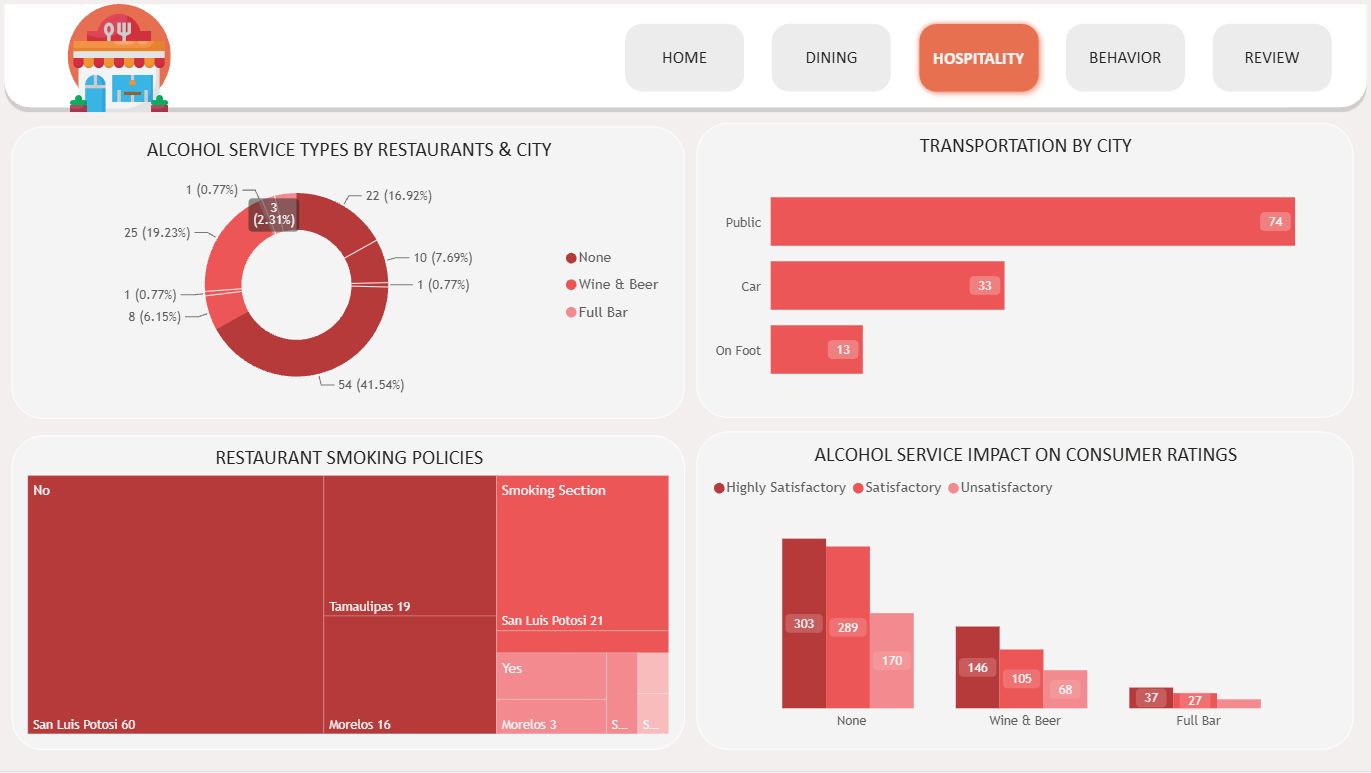

This screenshot's page, from the dashboard's own definition file:
{"tool":"powerbi","page":{"name":"HOSPITALITY","canvas":[1280,720],"ordinal":2},"visuals":[{"type":"donutChart","title":"ALCOHOL SERVICE TYPES BY RESTAURANTS & CITY ","fields":{"Category":["restaurants.Alcohol_Service"],"Y":["Count(restaurants.Restaurant_ID)"],"Series":["restaurants.City"]},"box":[11.3,118.6,628.2,272.5],"z":0},{"type":"treemap","title":"RESTAURANT SMOKING POLICIES","fields":{"Group":["restaurants.Smoking_Allowed"],"Values":["CountNonNull(restaurants.Restaurant_ID)"],"Details":["restaurants.State"]},"box":[11.3,406.6,628.2,293.6],"z":1000},{"type":"clusteredColumnChart","title":"ALCOHOL SERVICE IMPACT ON CONSUMER RATINGS","fields":{"Category":["restaurants.Alcohol_Service"],"Series":["ratings.Overall_Rating_Category"],"Y":["CountNonNull(ratings.Consumer_ID)"]},"box":[650.8,403.8,612.7,296.5],"z":2000},{"type":"barChart","title":"TRANSPORTATION BY CITY","fields":{"Category":["consumers.Transportation_Method"],"Y":["CountNonNull(consumers.Consumer_ID)"]},"box":[650.8,115.8,612.7,275.3],"z":3000},{"type":"shape","box":[0,0,1280.5,105.9],"z":4000},{"type":"pageNavigator","box":[576,15.5,677.6,79.1],"z":5000},{"type":"shape","box":[63.7,4.4,96.2,96.7],"z":6000},{"type":"image","box":[56,9.3,111.5,101.1],"z":7000}]}

Visuals, with their boxes in screenshot pixels (x1, y1, x2, y2), scaled from the page's 1280x720 canvas onto the 1371x773 screenshot:
"ALCOHOL SERVICE TYPES BY RESTAURANTS & CITY " donutChart: <bbox>12, 127, 685, 420</bbox>
"RESTAURANT SMOKING POLICIES" treemap: <bbox>12, 437, 685, 752</bbox>
"ALCOHOL SERVICE IMPACT ON CONSUMER RATINGS" clusteredColumnChart: <bbox>697, 434, 1353, 752</bbox>
"TRANSPORTATION BY CITY" barChart: <bbox>697, 124, 1353, 420</bbox>
shape: <bbox>0, 0, 1370, 114</bbox>
pageNavigator: <bbox>617, 17, 1343, 102</bbox>
shape: <bbox>68, 5, 171, 109</bbox>
image: <bbox>60, 10, 179, 119</bbox>
